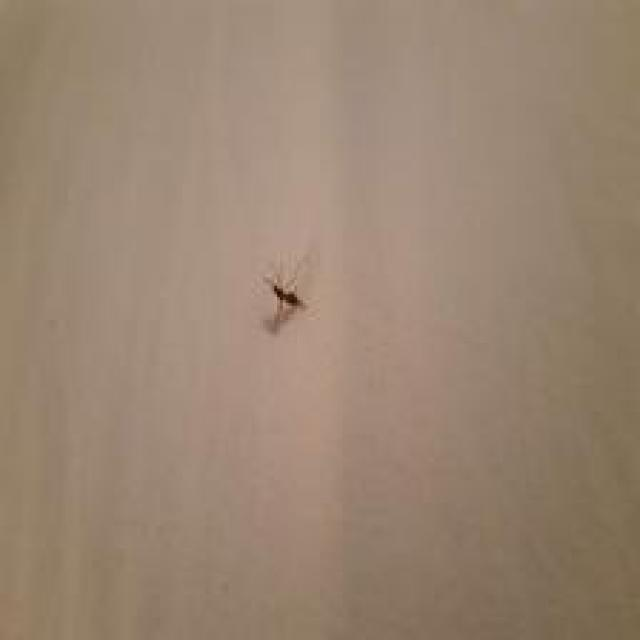Culex: (268, 277, 306, 314)
